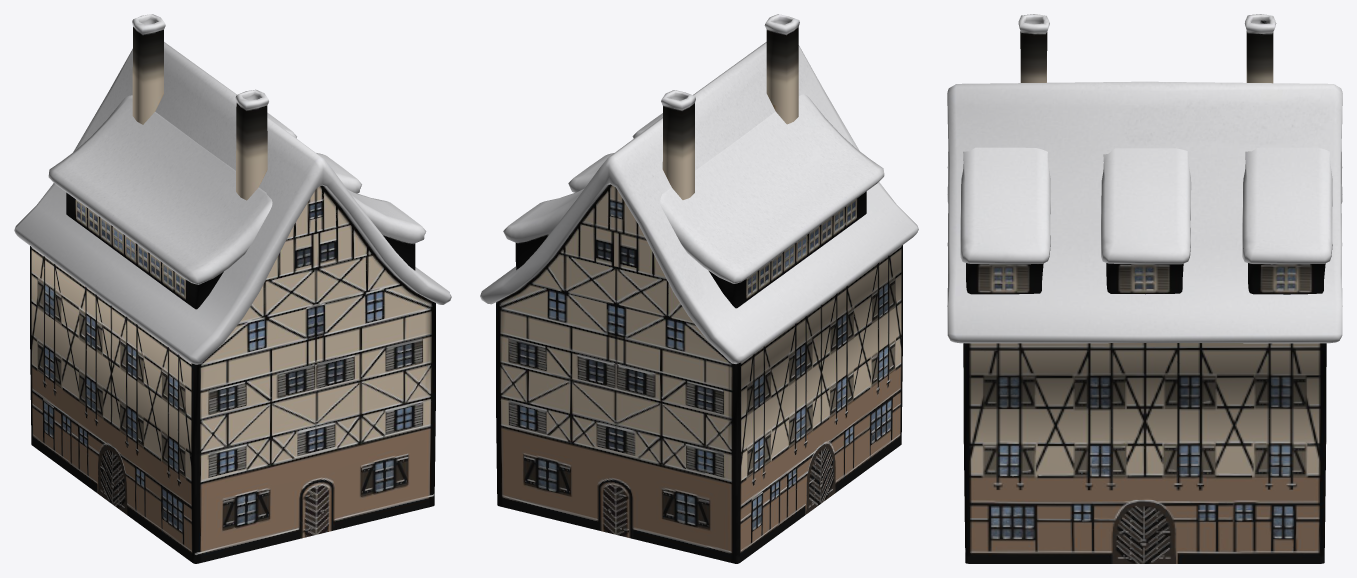
File: House-2.FBX
The picture shows the model from 3 angles, left to right: view 1: azimuth 30°, elevation 25°; view 2: azimuth 150°, elevation 25°; view 3: azimuth 270°, elevation 25°; orthographic projection. The views are drawn at different scales.
Visible parts, largest first — view 1: House-2; view 2: House-2; view 3: House-2.
Part boxes in pixels (x1,y1,x2,y2): House-2: (14, 14, 451, 563); House-2: (480, 14, 918, 563); House-2: (947, 14, 1342, 563).
Bounding box in the file's own units: 27.86 × 42.99 × 33.2.
Materials: 1 (1 with a texture image).
